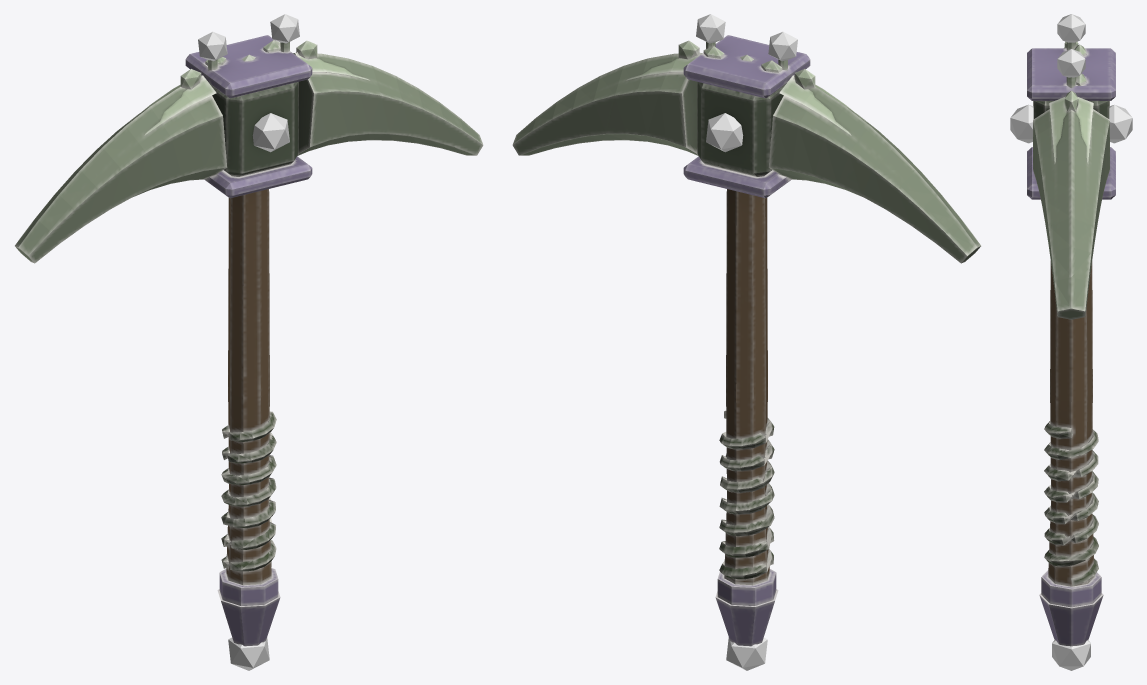
Rendered from MossbackPickaxe.glb.
The picture shows the model from 3 angles, left to right: view 1: azimuth 30°, elevation 25°; view 2: azimuth 150°, elevation 25°; view 3: azimuth 270°, elevation 25°; orthographic projection.
Visible parts, largest first — view 1: Body__Tex, Head__Gem, Head__Accent; view 2: Body__Tex, Head__Gem, Head__Accent; view 3: Body__Tex, Head__Gem, Head__Accent.
Boxes of the visible parts, <box> form: Body__Tex: <box>15,35,483,646</box>; Head__Gem: <box>228,113,289,670</box>; Head__Accent: <box>198,14,299,61</box>; Body__Tex: <box>512,35,980,646</box>; Head__Gem: <box>706,113,767,670</box>; Head__Accent: <box>696,14,797,61</box>; Body__Tex: <box>1027,41,1115,646</box>; Head__Gem: <box>1010,104,1132,670</box>; Head__Accent: <box>1057,14,1085,77</box>.
Bounding box in the file's own units: 3.19 × 4.28 × 0.7412.
Materials: 1 (1 with a texture image).
